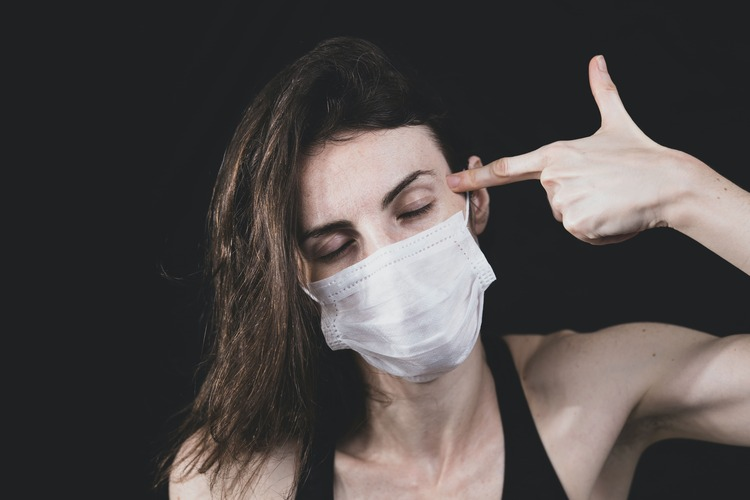with_mask: (293, 159, 473, 351)
